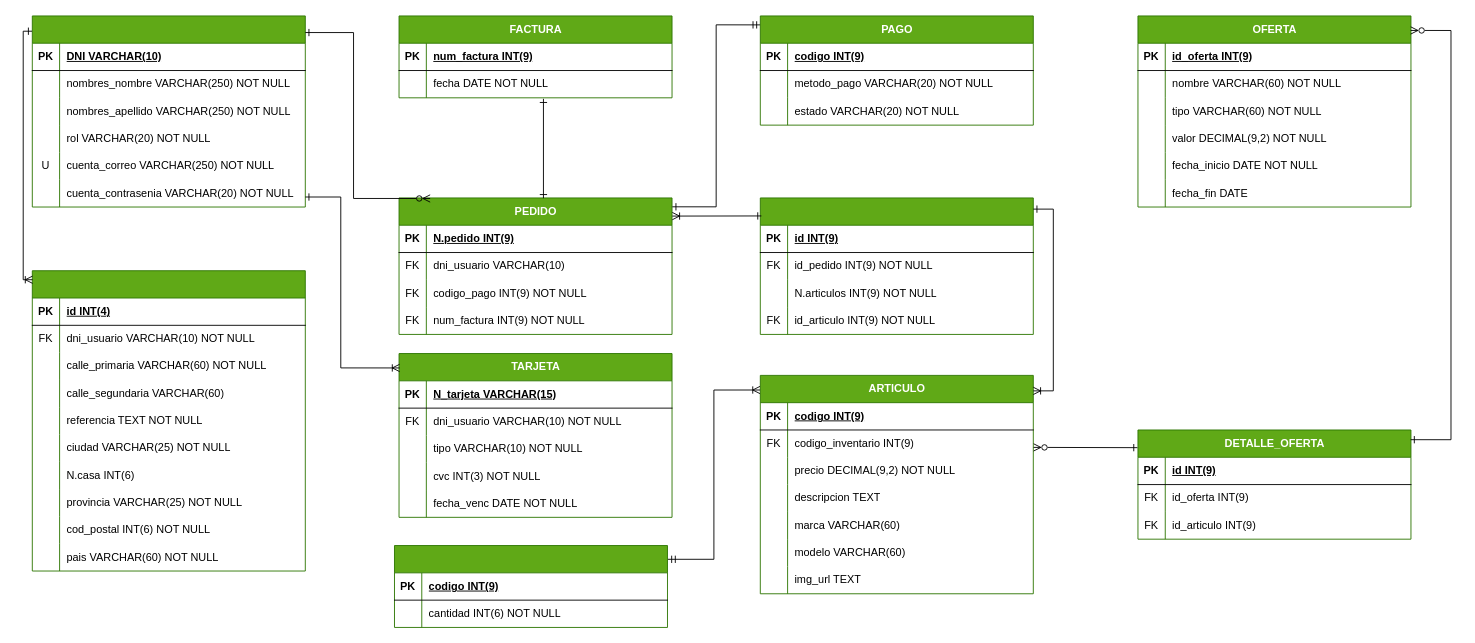
Image size: 1475x643. Some labels were removed from this diagram. The box of each missing label's shape, as (x1, y1, x2, y2) in pixels:
DETALLE_PEDIDO: (759, 197, 1033, 334)
DIRECCION: (31, 270, 305, 571)
INVENTARIO: (394, 545, 667, 627)
USUARIO: (31, 15, 305, 207)
